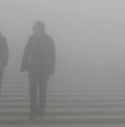person: (20, 20, 56, 123), (1, 25, 8, 103)
